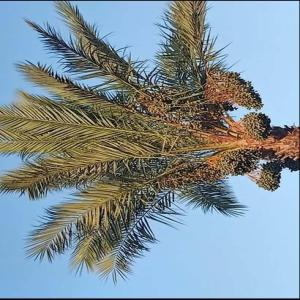palm tree: (1, 0, 298, 284)
